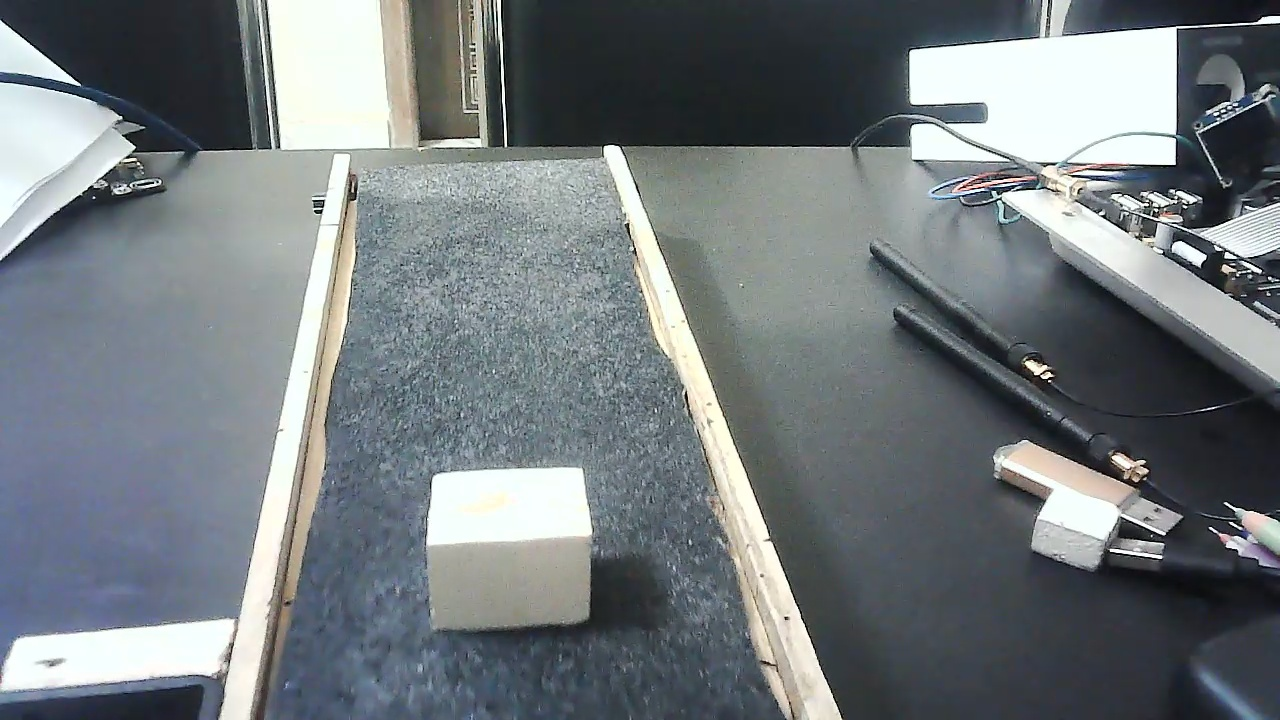Medium: (427, 466, 594, 633)
